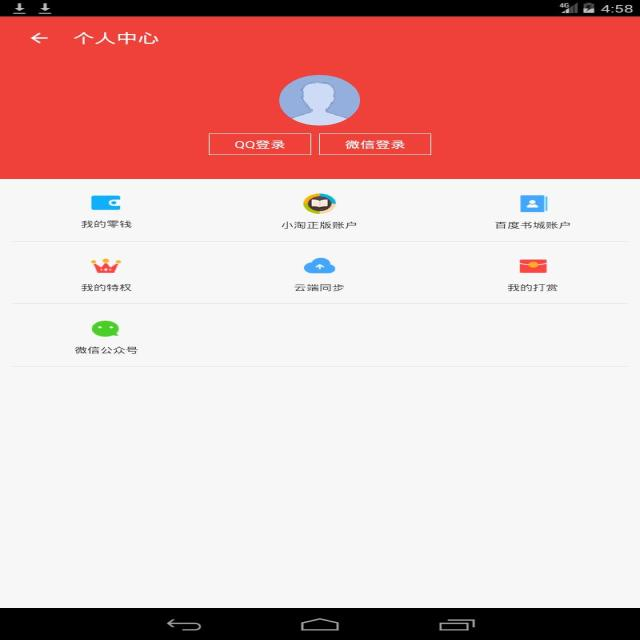button: (243, 182, 389, 241), (244, 252, 394, 305), (470, 180, 590, 245), (43, 182, 169, 239), (470, 248, 591, 305), (48, 310, 169, 367), (49, 249, 168, 303), (322, 133, 429, 155), (208, 134, 313, 156), (16, 23, 66, 53)
heading: (72, 25, 168, 53)
image: (278, 76, 362, 127), (294, 254, 344, 276), (298, 190, 343, 214), (83, 253, 128, 276), (83, 316, 128, 339), (514, 191, 552, 214), (512, 255, 553, 276), (87, 191, 128, 211)
